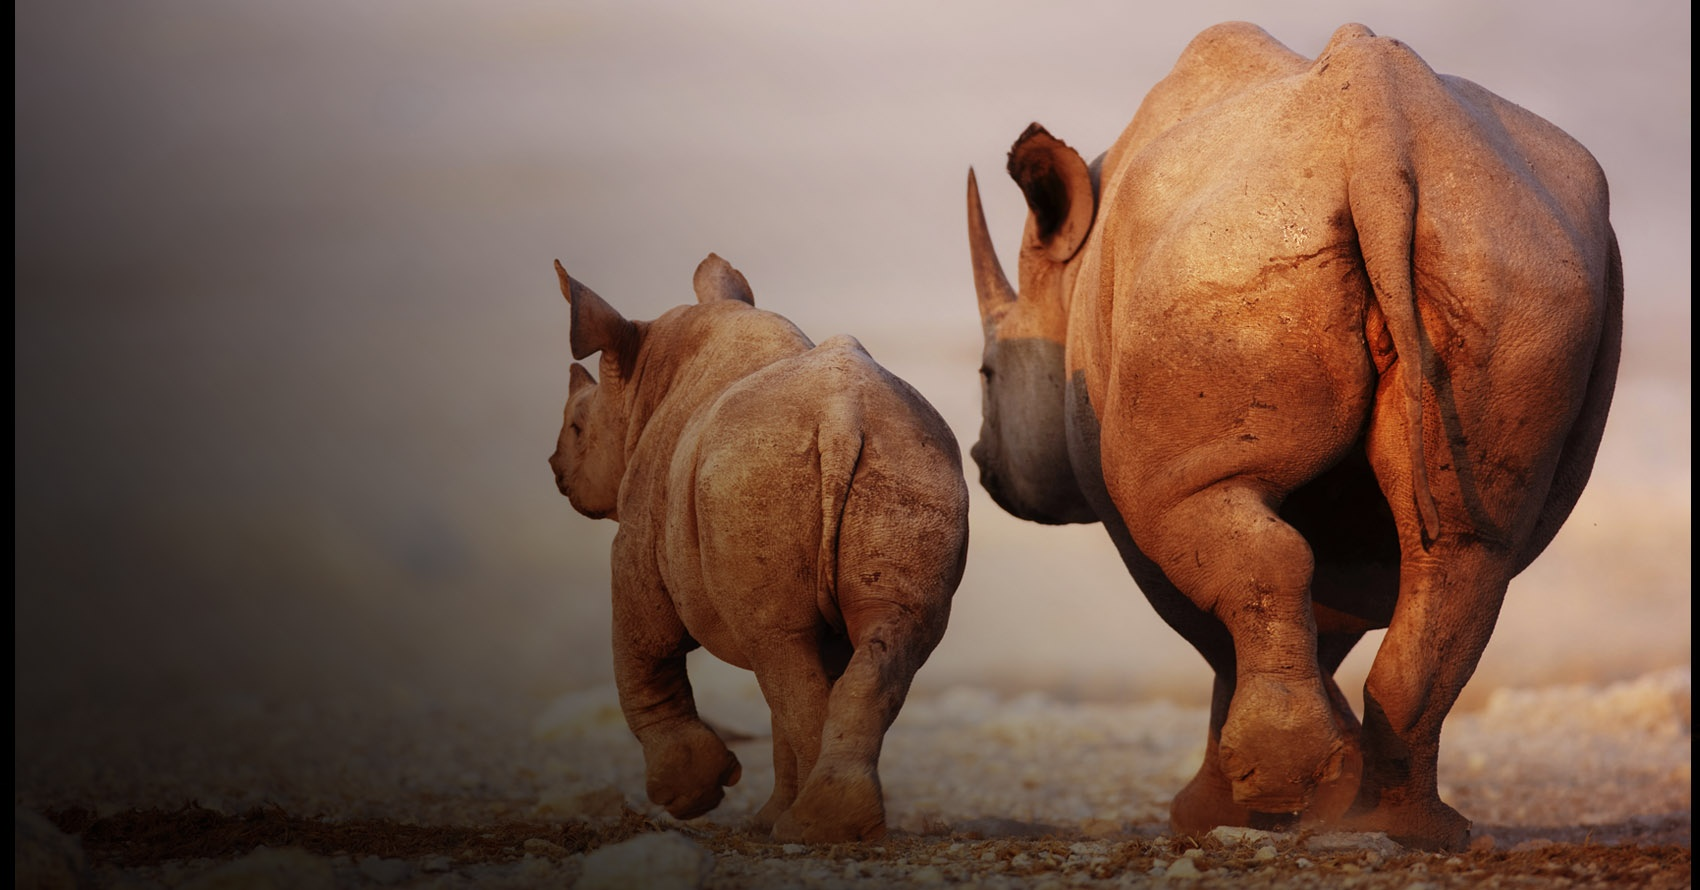rhino: (960, 18, 1634, 853), (537, 246, 977, 843)
